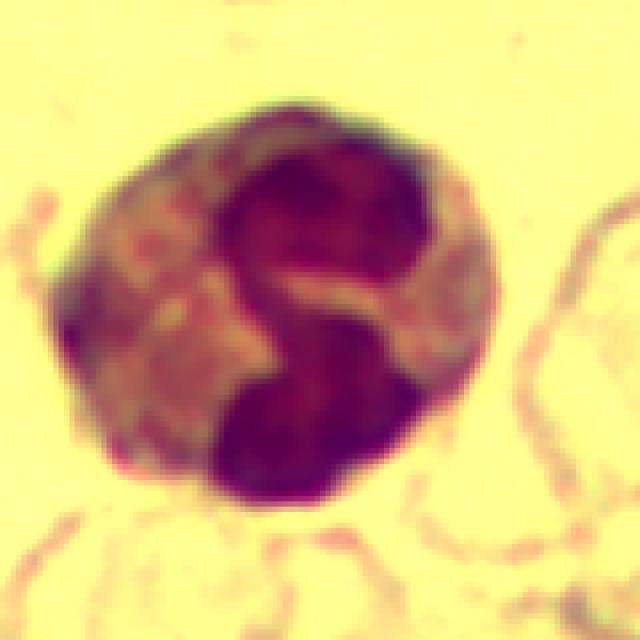WBC: (26, 85, 506, 528)
